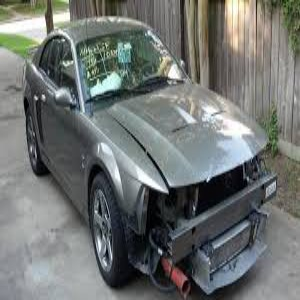bumper: (178, 199, 285, 272)
